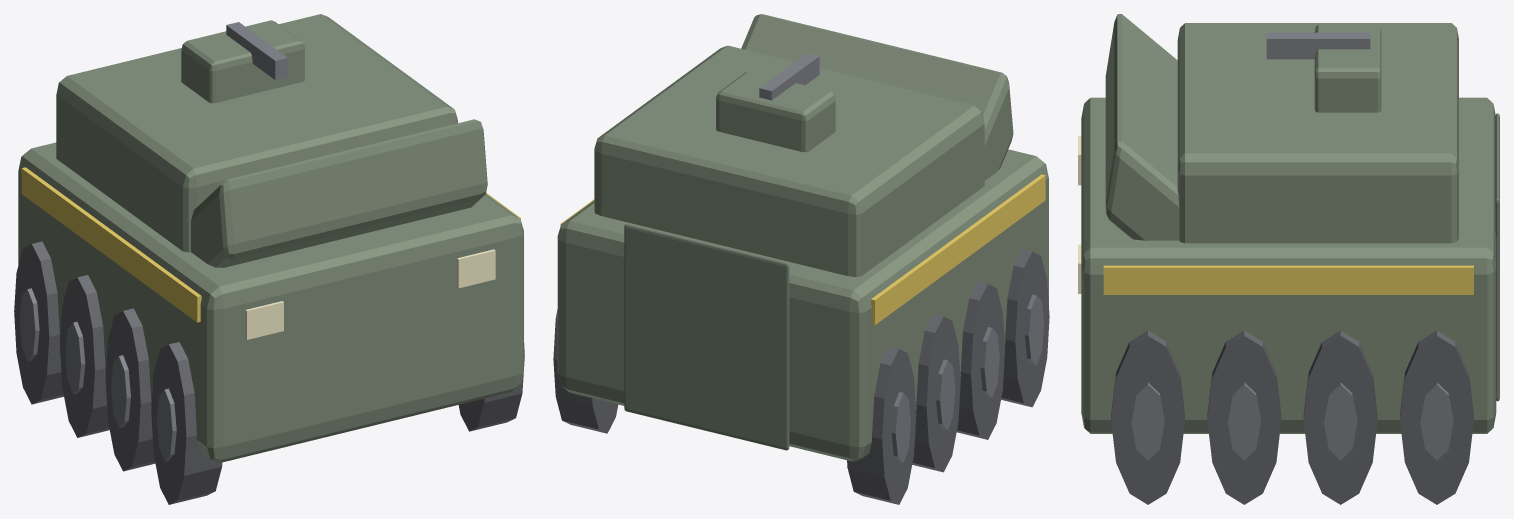
File: fob_transport.fbx
The picture shows the model from 3 angles, left to right: view 1: azimuth 30°, elevation 25°; view 2: azimuth 150°, elevation 25°; view 3: azimuth 270°, elevation 25°; orthographic projection. The views are drawn at different scales.
Parts seen in each view (by area): view 1: fob_transport; view 2: fob_transport; view 3: fob_transport.
Boxes of the visible parts, x1,y1,x2,y2 form: fob_transport: (14,14,524,504); fob_transport: (553,14,1049,504); fob_transport: (1078,14,1499,504).
Size of the model in its own units: 1 by 1 by 1.
